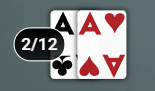a: (50, 10, 77, 37), (77, 10, 103, 38)
